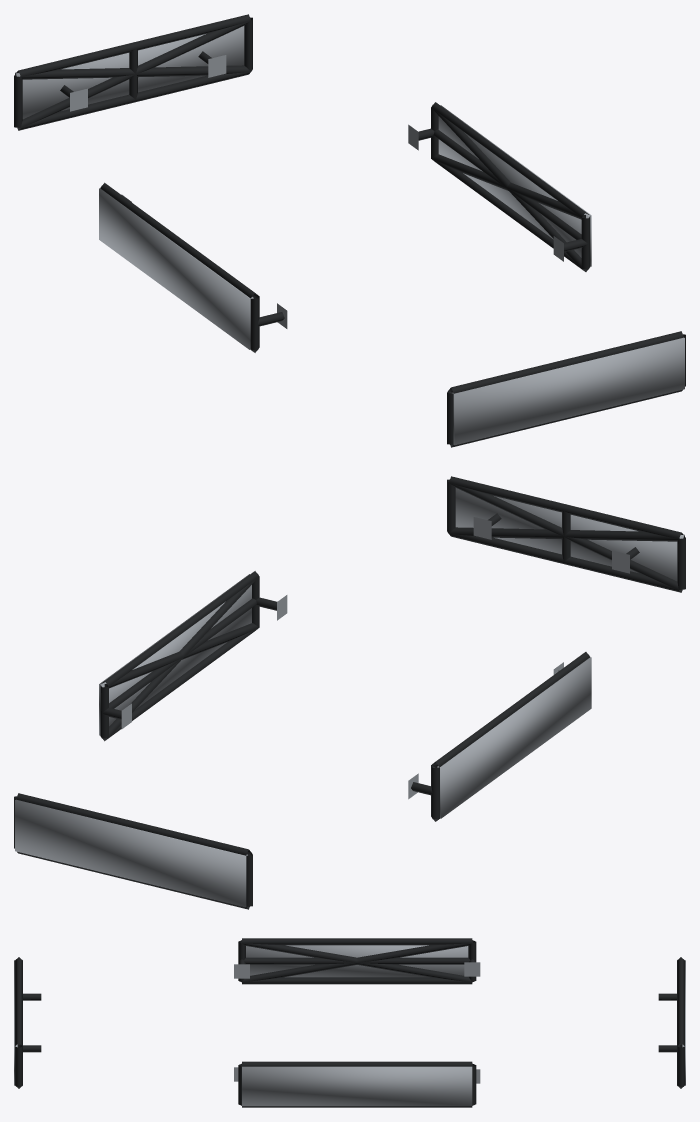
Rendered from vorhaus_corda_protecao.glb.
The picture shows the model from 3 angles, top to bottom: view 1: azimuth 30°, elevation 25°; view 2: azimuth 150°, elevation 25°; view 3: azimuth 270°, elevation 25°; orthographic projection. The views are drawn at different scales.
Parts seen in each view (by area): view 1: Protection_front_Level3_Details, Protection_left_Level3_Details, Protection_rear_Level1_Details, Protection_rear_Level3_Details, Protection_right_Level1_Details, Protection_rear_Level2_Details, Protection_right_Level2_Details, Protection_right_Level3_Details, Protection_front_Level1_Details, Protection_left_Level1_Details; view 2: Protection_rear_Level3_Details, Protection_left_Level3_Details, Protection_front_Level1_Details, Protection_front_Level3_Details, Protection_right_Level1_Details, Protection_front_Level2_Details, Protection_right_Level2_Details, Protection_right_Level3_Details, Protection_rear_Level1_Details, Protection_left_Level1_Details; view 3: Protection_right_Level3_Details, Protection_left_Level2_Details, Protection_left_Level1_Details, Protection_left_Level3_Details, Protection_right_Level1_Details, Protection_rear_Level1_Details, Protection_front_Level1_Details.
Part boxes in pixels (x1,y1,x2,y2): Protection_front_Level3_Details: [452, 337, 684, 445]; Protection_left_Level3_Details: [99, 188, 253, 349]; Protection_rear_Level1_Details: [14, 14, 252, 130]; Protection_rear_Level3_Details: [15, 26, 244, 119]; Protection_right_Level1_Details: [408, 102, 590, 271]; Protection_rear_Level2_Details: [16, 21, 250, 129]; Protection_right_Level2_Details: [431, 108, 588, 271]; Protection_right_Level3_Details: [438, 105, 591, 266]; Protection_front_Level1_Details: [447, 331, 685, 447]; Protection_left_Level1_Details: [100, 182, 287, 352]; Protection_rear_Level3_Details: [15, 799, 247, 907]; Protection_left_Level3_Details: [437, 657, 591, 818]; Protection_front_Level1_Details: [447, 476, 685, 592]; Protection_front_Level3_Details: [455, 488, 684, 581]; Protection_right_Level1_Details: [100, 571, 287, 741]; Protection_front_Level2_Details: [449, 483, 683, 591]; Protection_right_Level2_Details: [101, 577, 258, 740]; Protection_right_Level3_Details: [99, 574, 251, 735]; Protection_rear_Level1_Details: [14, 793, 252, 909]; Protection_left_Level1_Details: [408, 652, 589, 821]; Protection_right_Level3_Details: [242, 1066, 472, 1106]; Protection_left_Level2_Details: [241, 941, 472, 982]; Protection_left_Level1_Details: [234, 938, 480, 984]; Protection_left_Level3_Details: [246, 945, 468, 977]; Protection_right_Level1_Details: [234, 1061, 480, 1107]; Protection_rear_Level1_Details: [658, 957, 684, 1088]; Protection_front_Level1_Details: [15, 957, 41, 1088].
Bounding box in the file's own units: 2.1 × 0.354 × 4.67.
1 material, 1 textured.
